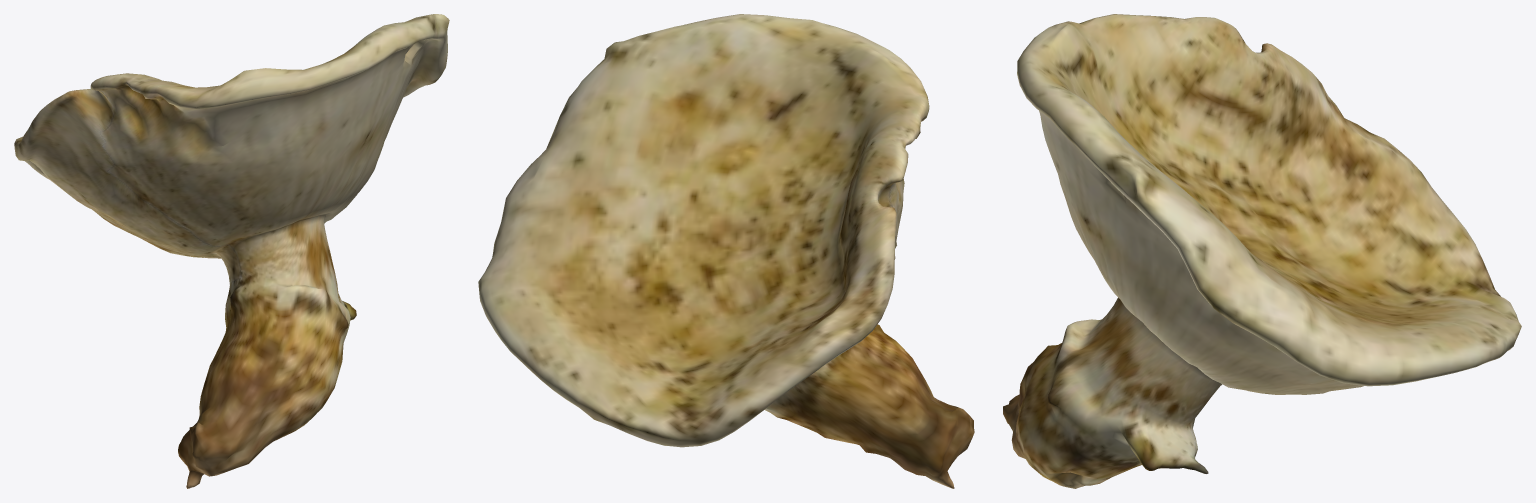
File: mushroom.glb
3 renders of one model, left to right at view 1: azimuth 30°, elevation 25°; view 2: azimuth 150°, elevation 25°; view 3: azimuth 270°, elevation 25°, orthographic. The views are drawn at different scales.
Visible parts, largest first — view 1: Object_2; view 2: Object_2; view 3: Object_2.
Part boxes in pixels (bbox=[...]): Object_2: bbox=[14, 14, 449, 488]; Object_2: bbox=[478, 14, 974, 488]; Object_2: bbox=[1003, 14, 1521, 488].
Size of the model in its own units: 0.1532 by 0.1552 by 0.1525.
1 material, 1 textured.
